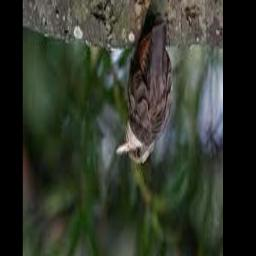Cuckoo: (116, 19, 173, 164)
